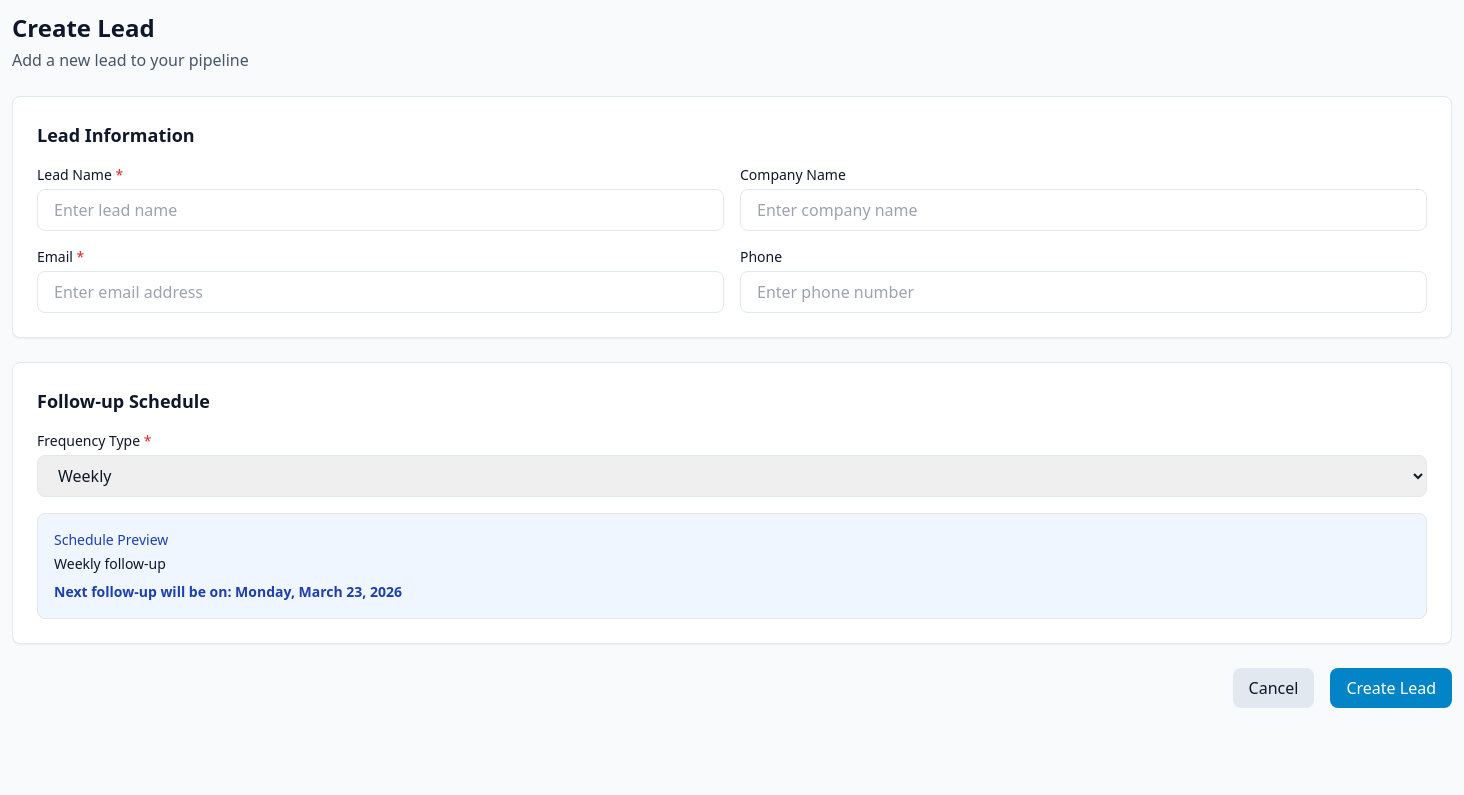
CreateLead › Form Validation › shows validation error for empty lead name
Click the button "Create Lead".
click(1391, 688)  # box x1=1330 y1=668 x2=1452 y2=708
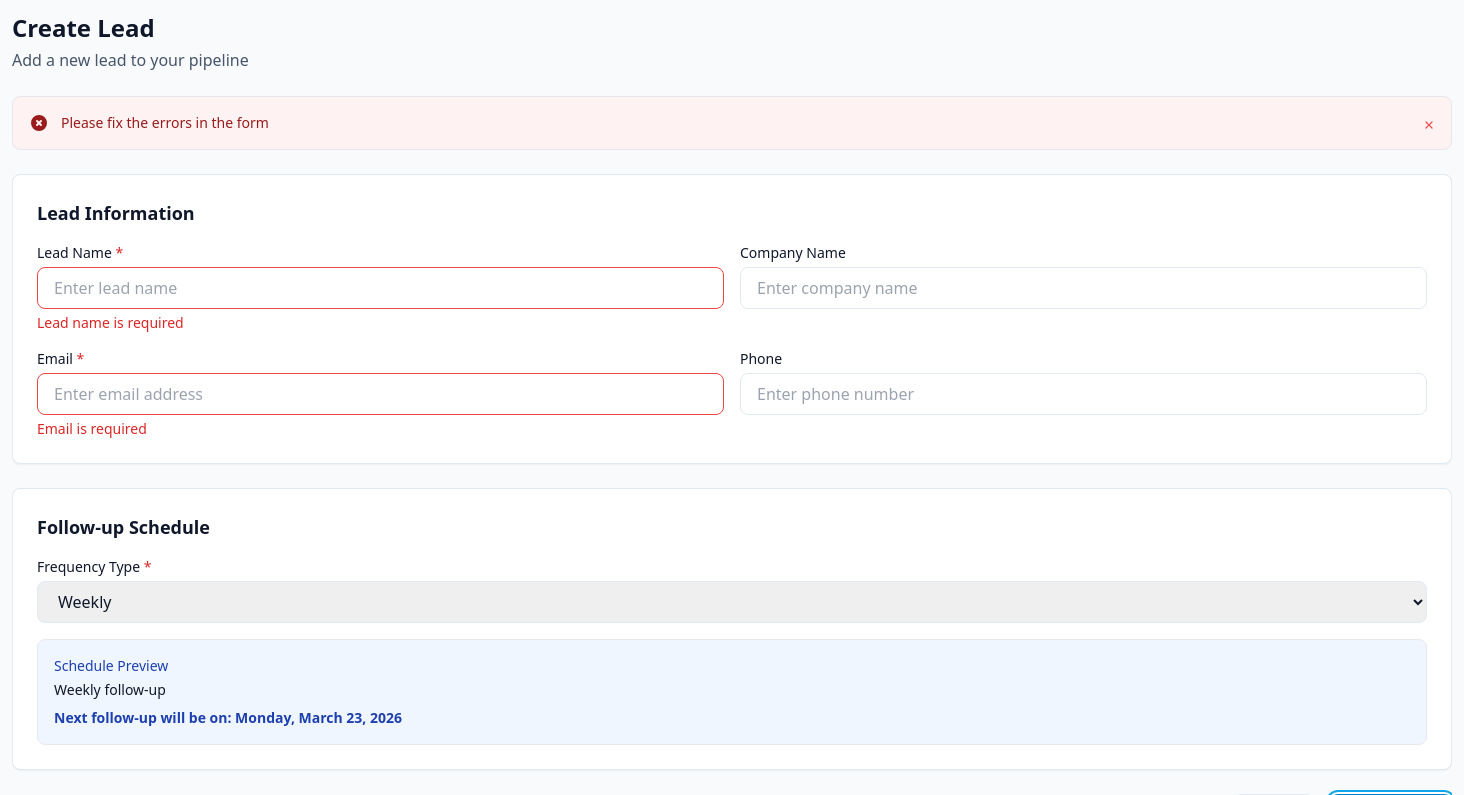
Now the text "Lead name is required" is shown, box x1=37 y1=313 x2=184 y2=332
